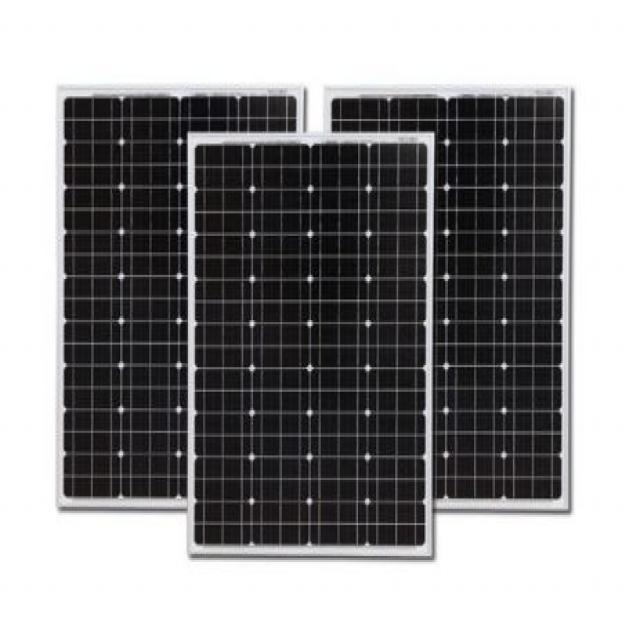no faulty: (200, 126, 428, 564), (332, 96, 564, 499), (62, 88, 288, 500)
